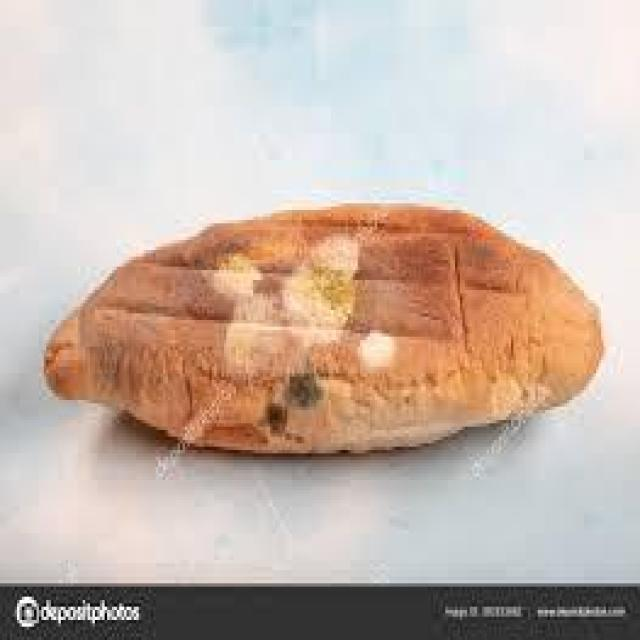organic: (41, 203, 608, 460)
